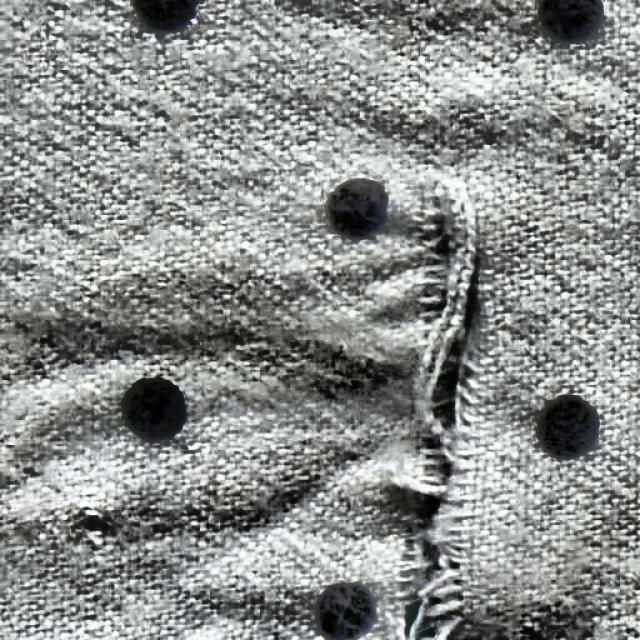Stitch: (340, 164, 511, 638), (44, 482, 150, 578)
